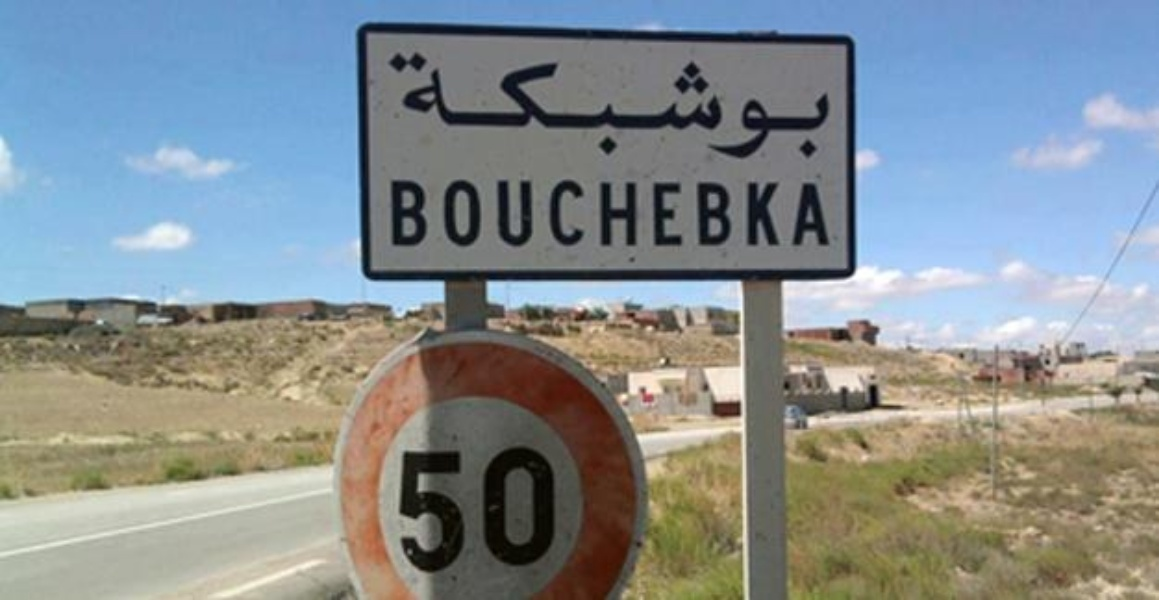text: (401, 447, 416, 575), (417, 447, 432, 575), (433, 447, 448, 575), (449, 447, 464, 575), (465, 447, 480, 575), (481, 447, 496, 575), (497, 447, 512, 575), (513, 447, 528, 575), (529, 447, 544, 575), (545, 447, 560, 575), (385, 49, 400, 160), (401, 49, 416, 160), (417, 49, 432, 160), (433, 49, 448, 160), (449, 49, 464, 160), (465, 49, 480, 160), (481, 49, 496, 160), (497, 49, 512, 160), (513, 49, 528, 160), (529, 49, 544, 160), (545, 49, 560, 160), (561, 49, 576, 160), (577, 49, 592, 160), (593, 49, 608, 160), (609, 49, 624, 160), (625, 49, 640, 160), (641, 49, 656, 160), (657, 49, 672, 160), (673, 49, 688, 160), (689, 49, 704, 160), (705, 49, 720, 160), (721, 49, 736, 160), (737, 49, 752, 160), (753, 49, 768, 160), (769, 49, 784, 160), (785, 49, 800, 160), (801, 49, 816, 160), (817, 49, 832, 160), (401, 175, 416, 249), (417, 175, 432, 249), (433, 175, 448, 249), (449, 175, 464, 249), (465, 175, 480, 249), (481, 175, 496, 249), (497, 175, 512, 249), (513, 175, 528, 249), (529, 175, 544, 249), (545, 175, 560, 249), (561, 175, 576, 249), (577, 175, 592, 249), (593, 175, 608, 249), (609, 175, 624, 249), (625, 175, 640, 249), (641, 175, 656, 249), (657, 175, 672, 249), (673, 175, 688, 249), (689, 175, 704, 249), (705, 175, 720, 249), (721, 175, 736, 249), (737, 175, 752, 249), (753, 175, 768, 249), (769, 175, 784, 249), (785, 175, 800, 249), (801, 175, 816, 249), (817, 175, 832, 249), (387, 175, 400, 249), (393, 447, 400, 575)
